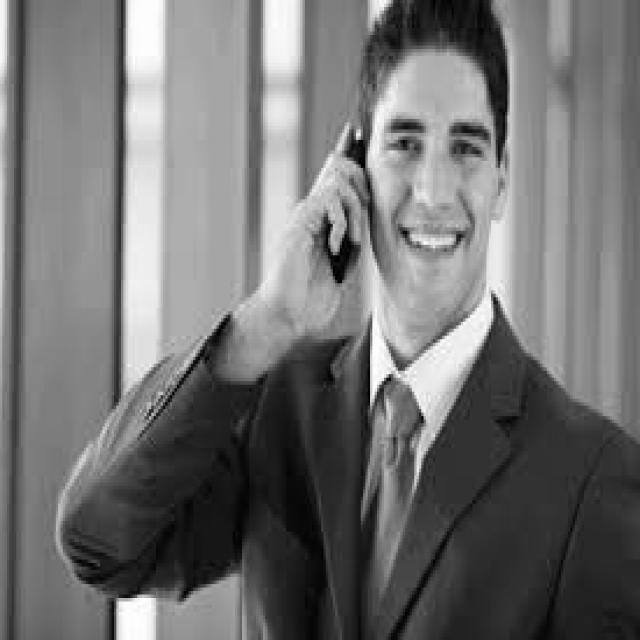phone: (284, 77, 442, 322)
